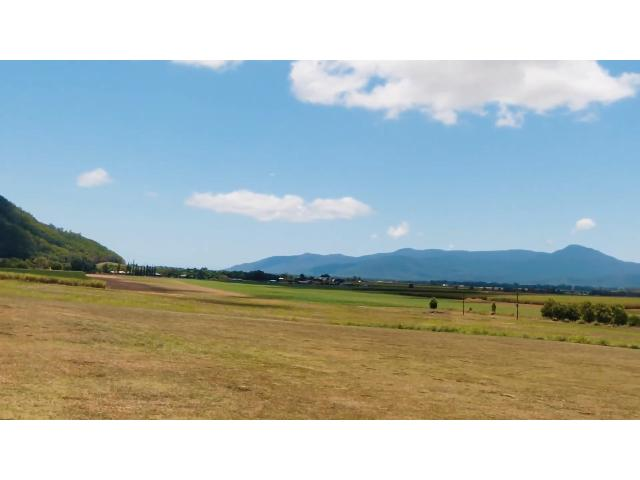Anti-Drone: (264, 169, 286, 181)
